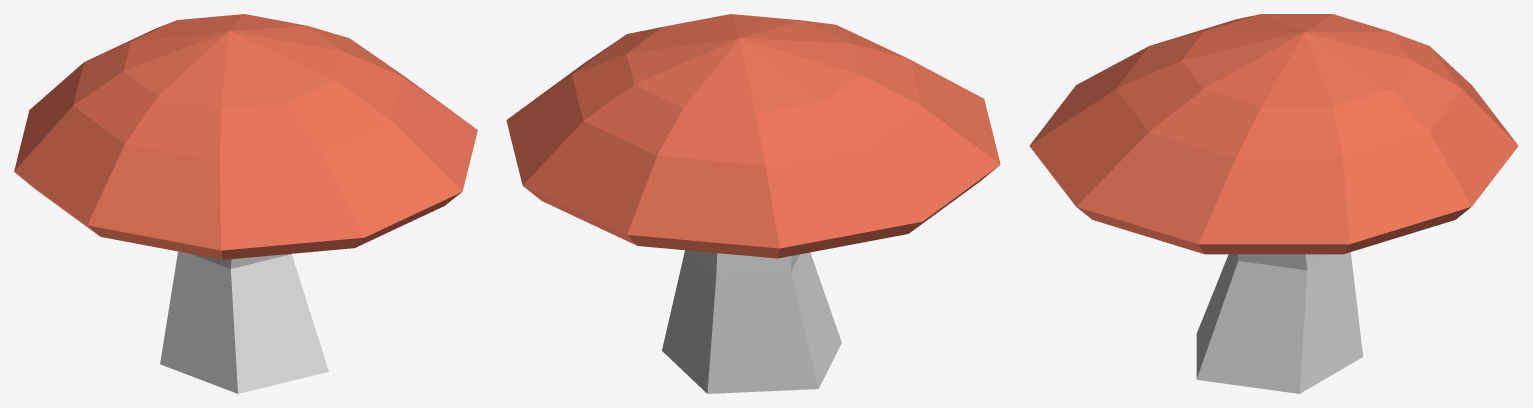
File: Mushroom_3.fbx
The picture shows the model from 3 angles, left to right: view 1: azimuth 30°, elevation 25°; view 2: azimuth 150°, elevation 25°; view 3: azimuth 270°, elevation 25°; orthographic projection. The views are drawn at different scales.
Visible parts, largest first — view 1: Mushroom_3; view 2: Mushroom_3; view 3: Mushroom_3.
Boxes of the visible parts, box(x1,y1,x2,y2) form: Mushroom_3: box(14, 14, 477, 393); Mushroom_3: box(506, 14, 1000, 393); Mushroom_3: box(1029, 14, 1518, 393).
Bounding box in the file's own units: 0.312 × 0.2395 × 0.3281.
